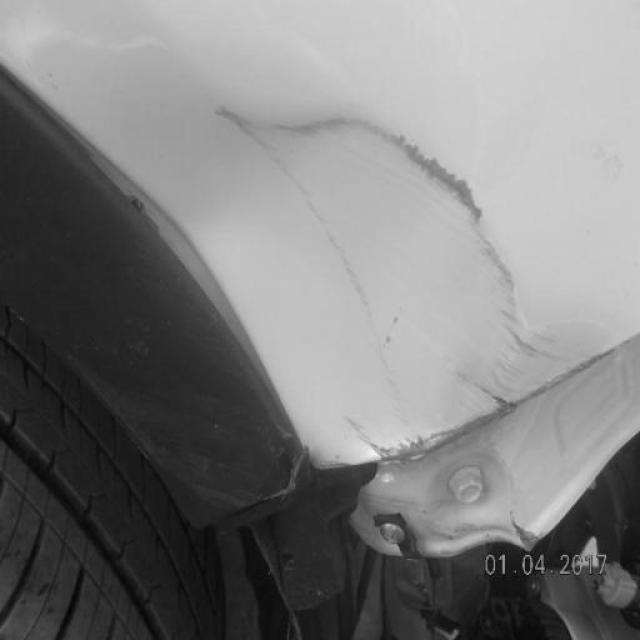scratch: (208, 93, 631, 470), (439, 501, 543, 554)
